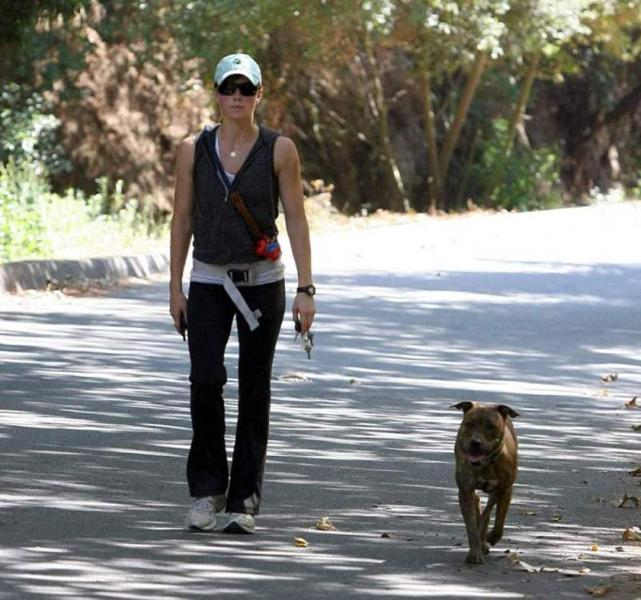person: (168, 52, 314, 531)
